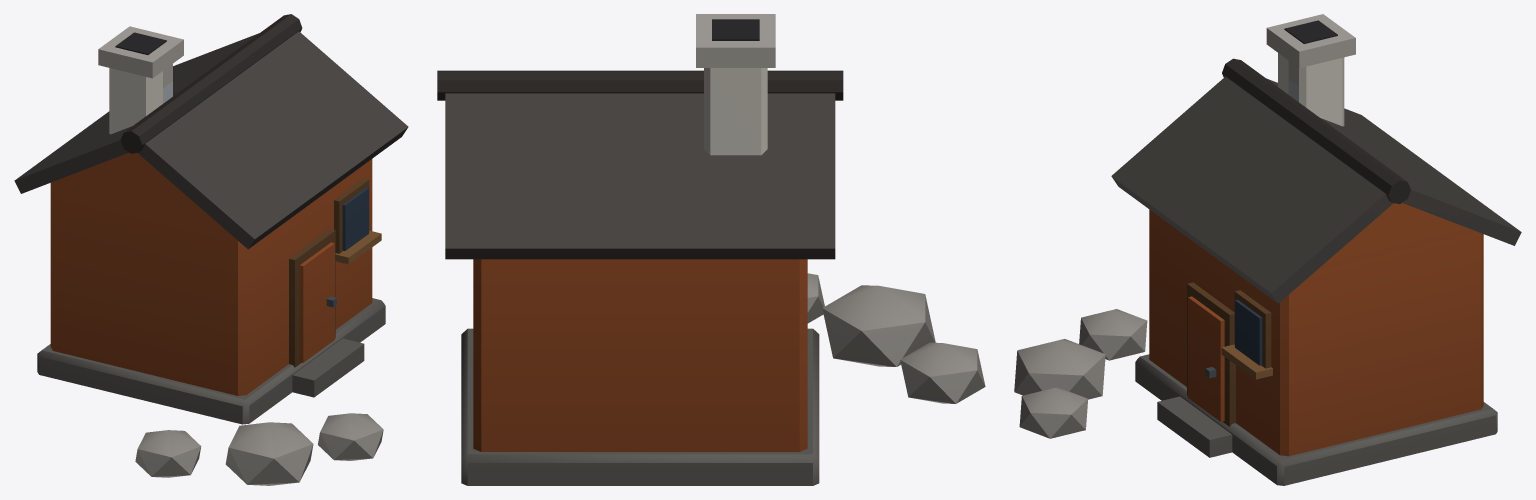
The model's file is building_5.glb.
3 views of the same model, side by side, from view 1: azimuth 30°, elevation 25°; view 2: azimuth 150°, elevation 25°; view 3: azimuth 270°, elevation 25° (orthographic). The views are drawn at different scales.
Visible parts, largest first — view 1: building_5; view 2: building_5; view 3: building_5.
Boxes of the visible parts, box(x1,y1,x2,y2) form: building_5: box(14, 14, 408, 485); building_5: box(437, 14, 985, 485); building_5: box(1014, 14, 1521, 485).
Bounding box in the file's own units: 0.6455 × 0.626 × 0.7765.
